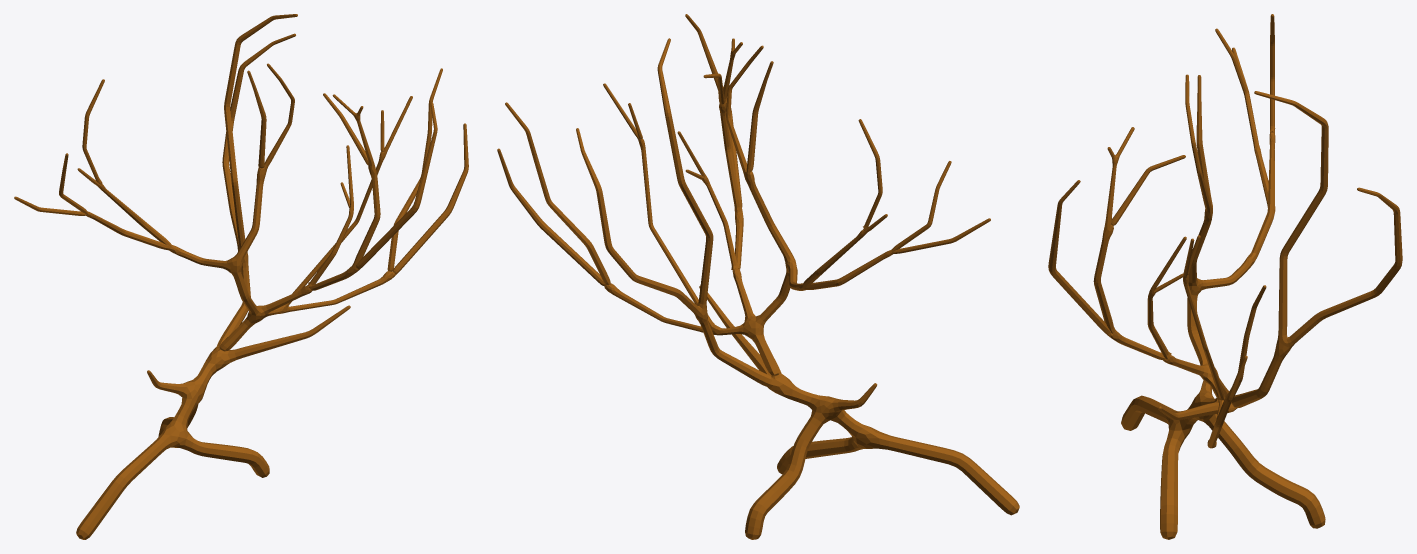
File: fa_gyokeres.fbx
3 renders of one model, left to right at view 1: azimuth 30°, elevation 25°; view 2: azimuth 150°, elevation 25°; view 3: azimuth 270°, elevation 25°, orthographic. The views are drawn at different scales.
Parts seen in each view (by area): view 1: Vert; view 2: Vert; view 3: Vert.
Boxes of the visible parts, x1,y1,x2,y2 form: Vert: [14, 14, 468, 539]; Vert: [497, 14, 1019, 539]; Vert: [1048, 14, 1402, 539].
Bounding box in the file's own units: 22.66 × 20.1 × 13.01.
